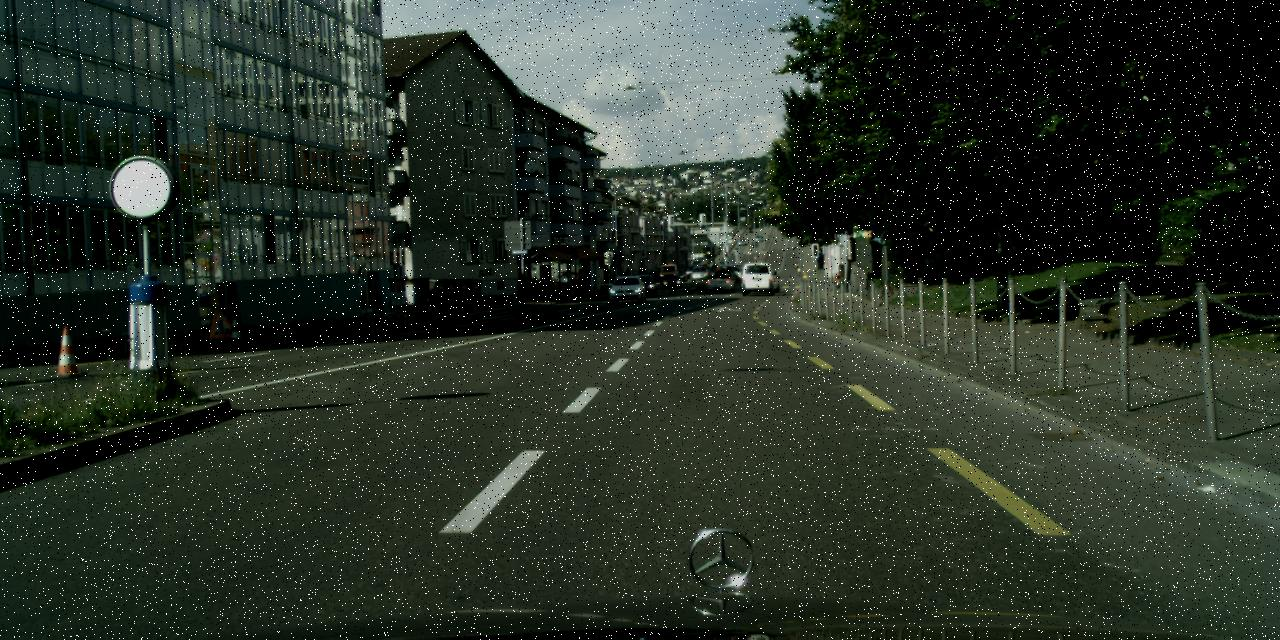ped: (546, 276, 552, 294), (624, 267, 630, 284)
